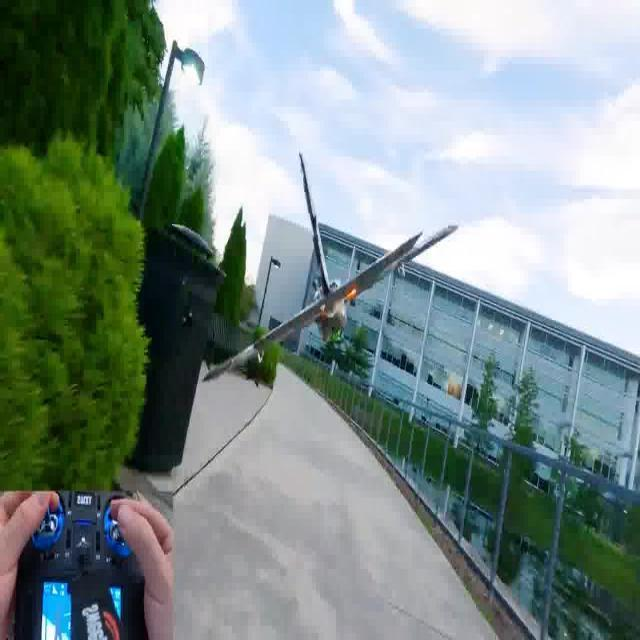iha: (197, 146, 469, 401)
